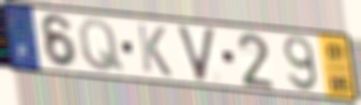2: (236, 30, 277, 92)
6: (38, 13, 81, 70)
9: (280, 34, 320, 94)
K: (134, 22, 174, 79)
Q: (76, 17, 127, 74)
V: (174, 23, 219, 85)
